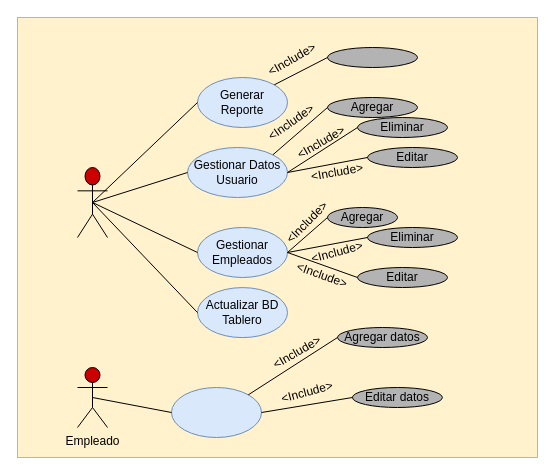
The diagram is 555 pixels wide and 475 high, and some of its shapes have lost their labels. Here are the shapes that lost their labels. From the top down, the centre of each, then its label:
At point 372,57: "Descargar".
At point 92,202: "Administrador".
At point 216,412: "Gestionar Información Usuarios".
